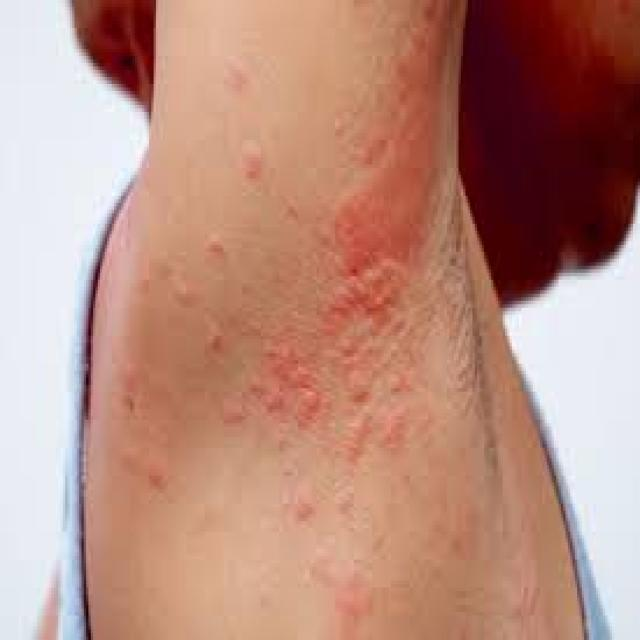Eczema: (122, 0, 446, 532)
